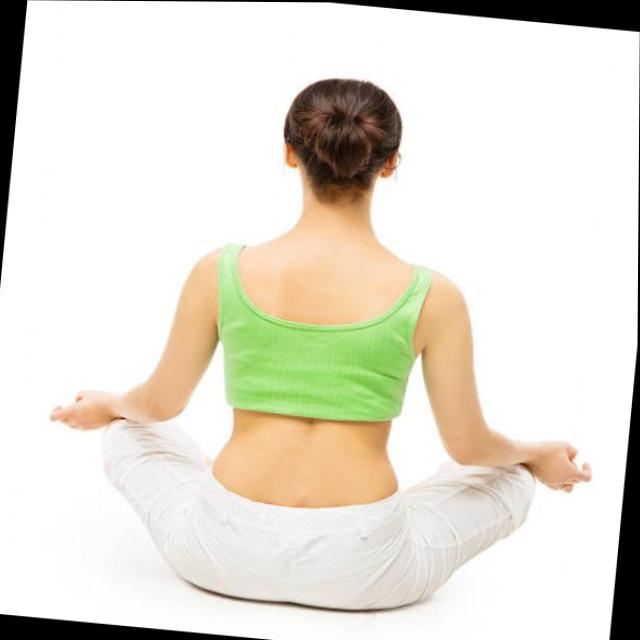no helmet: (232, 44, 447, 283)
